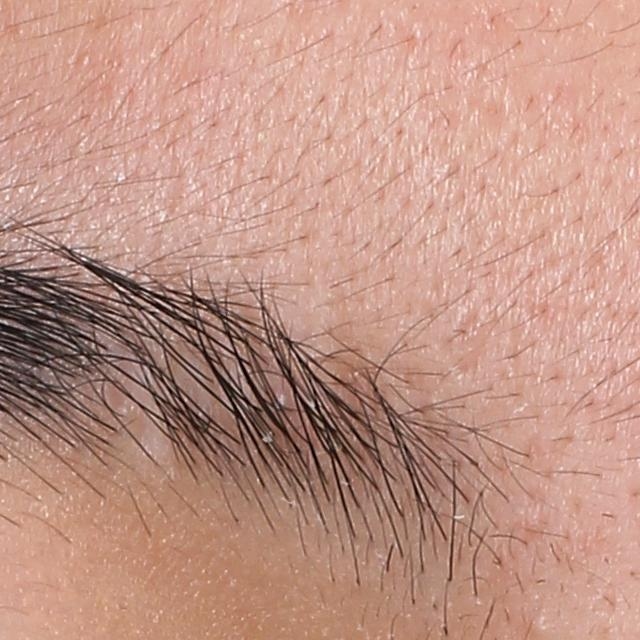comedo: (527, 611, 552, 635)
